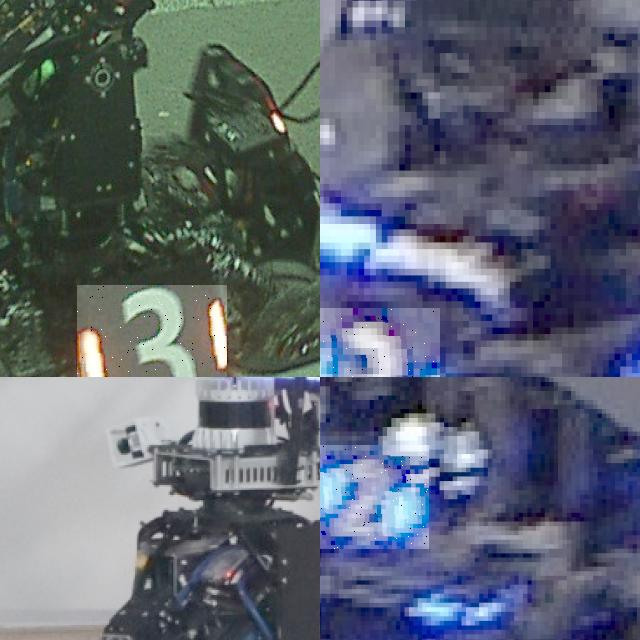B2: (320, 445, 428, 548)
B3: (320, 308, 440, 377)
R3: (77, 285, 226, 377)
